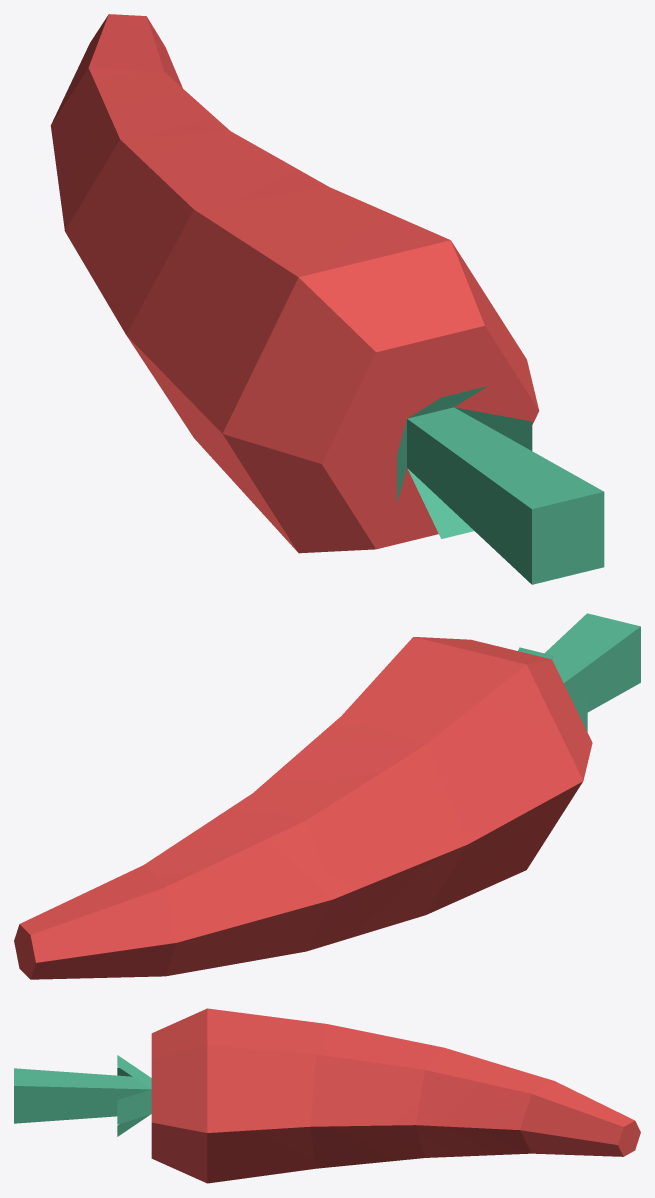
The model's file is pepper.fbx.
3 views of the same model, one above another, from view 1: azimuth 30°, elevation 25°; view 2: azimuth 150°, elevation 25°; view 3: azimuth 270°, elevation 25° (orthographic). The views are drawn at different scales.
Visible parts, largest first — view 1: pepper; view 2: pepper; view 3: pepper.
Boxes of the visible parts, left/top/right/bottom form: pepper: left=50, top=14, right=604, bottom=584; pepper: left=14, top=613, right=640, bottom=979; pepper: left=14, top=1008, right=640, bottom=1183.
Size of the model in its own units: 1.04 by 0.7747 by 3.19.
